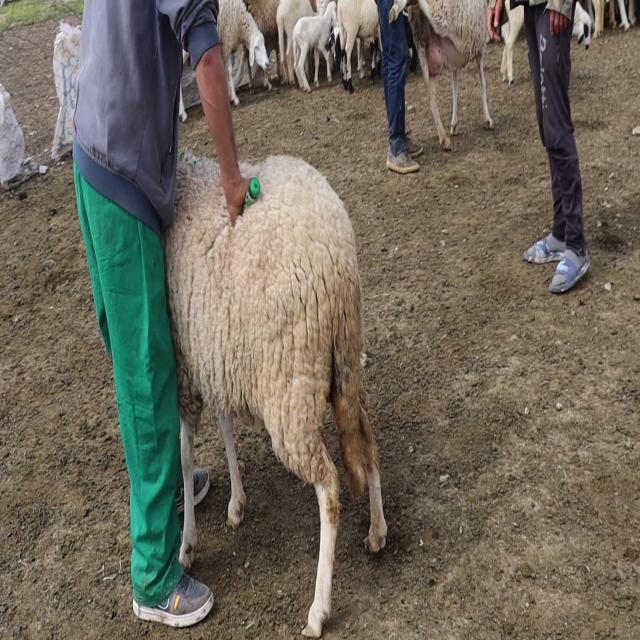Score_4: (164, 151, 387, 637)
